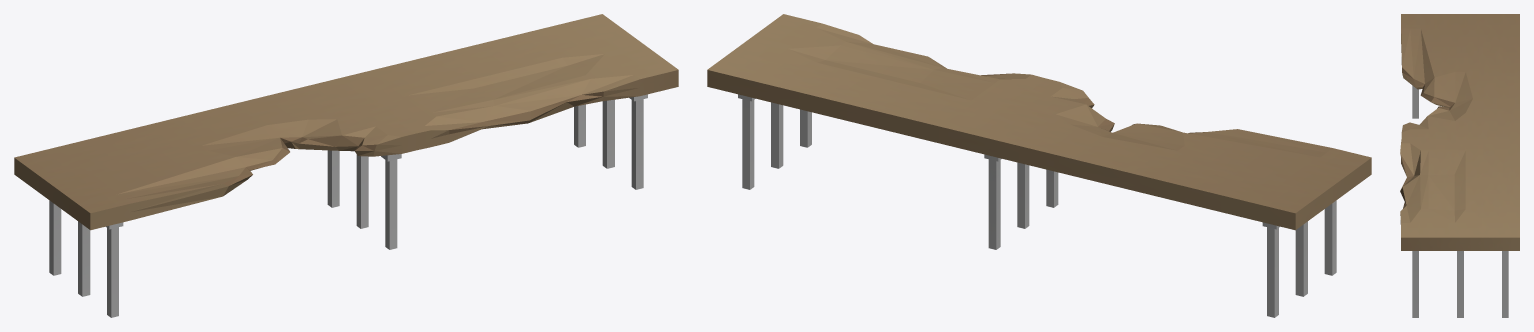
File: table_1.obj
3 renders of one model, left to right at view 1: azimuth 30°, elevation 25°; view 2: azimuth 150°, elevation 25°; view 3: azimuth 270°, elevation 25°, orthographic. The views are drawn at different scales.
Parts seen in each view (by area): view 1: table_1_Mesh; view 2: table_1_Mesh; view 3: table_1_Mesh.
Part boxes in pixels (x1=…): table_1_Mesh: x1=14, y1=14, x2=678, y2=317; table_1_Mesh: x1=707, y1=14, x2=1371, y2=317; table_1_Mesh: x1=1400, y1=14, x2=1519, y2=317.
Size of the model in its own units: 3.52 by 0.6669 by 0.7967.
